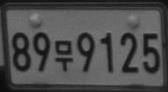1: (99, 31, 118, 73)
2: (119, 31, 139, 73)
5: (142, 32, 160, 73)
8: (10, 31, 31, 72)
9: (76, 31, 95, 73), (32, 31, 51, 72)
무: (54, 39, 73, 72)
